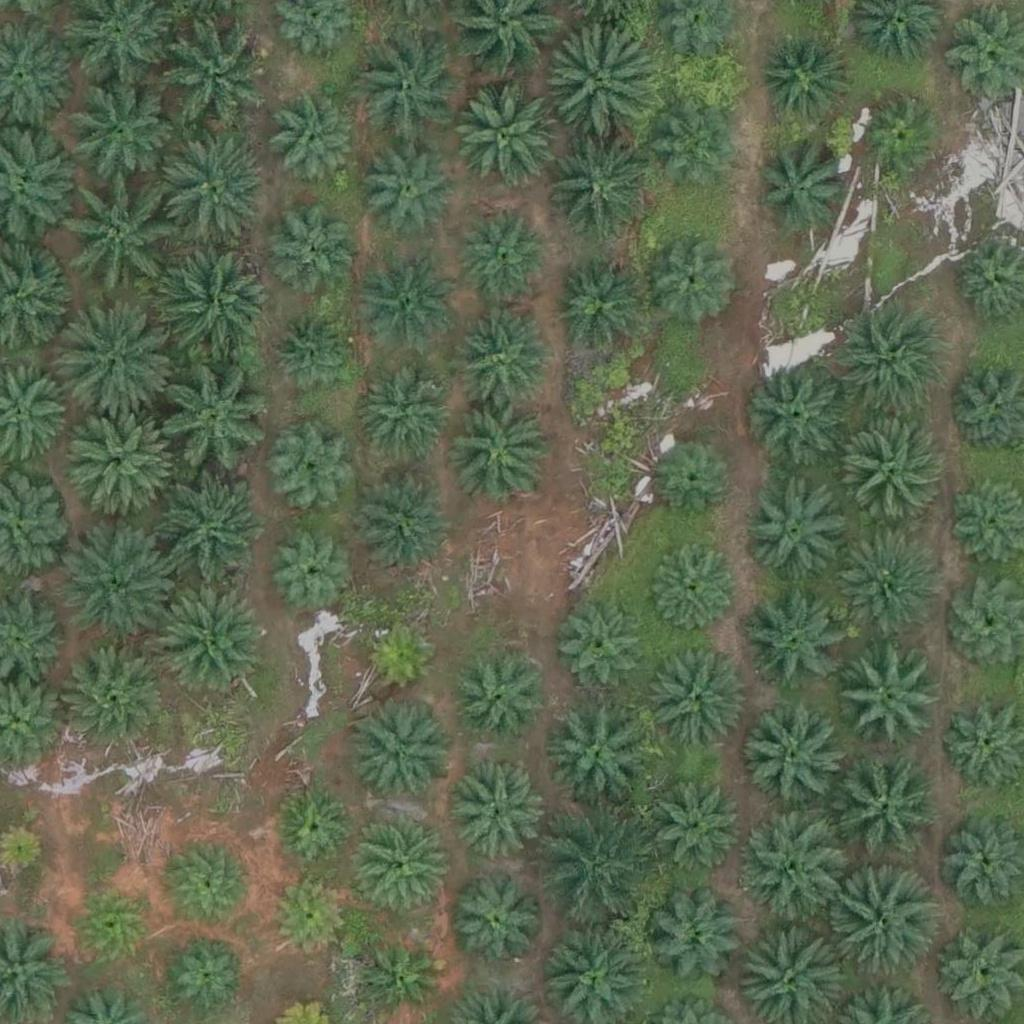Kelapa_Sawit: (63, 309, 176, 423), (736, 814, 849, 927), (539, 695, 652, 808), (540, 818, 653, 931), (161, 131, 274, 244), (157, 250, 270, 363), (150, 366, 263, 479), (829, 868, 941, 982), (149, 481, 261, 595), (153, 585, 265, 699), (55, 642, 167, 756), (458, 80, 570, 194), (829, 757, 941, 870), (831, 309, 943, 422), (544, 141, 656, 254), (63, 531, 175, 644), (63, 404, 175, 517), (70, 179, 182, 292), (548, 27, 660, 140), (348, 31, 460, 144), (159, 12, 271, 125), (61, 67, 173, 180), (840, 647, 940, 748), (747, 588, 847, 689), (646, 885, 746, 986), (453, 312, 553, 413), (449, 404, 549, 505), (450, 644, 550, 745), (450, 754, 550, 855), (443, 877, 543, 978), (354, 360, 454, 461), (355, 469, 455, 570), (348, 706, 448, 807), (347, 814, 447, 915), (754, 139, 854, 240), (837, 534, 937, 634), (841, 410, 941, 510), (749, 366, 849, 466), (739, 490, 839, 590), (740, 703, 840, 803), (650, 771, 750, 871), (649, 647, 749, 747), (361, 134, 461, 234), (356, 263, 456, 363), (648, 538, 736, 627), (358, 610, 446, 698), (166, 838, 254, 926), (166, 930, 254, 1018), (264, 870, 352, 958), (272, 781, 360, 869), (647, 241, 735, 329), (554, 601, 642, 689), (459, 208, 547, 296), (267, 526, 355, 614), (271, 418, 359, 506), (760, 40, 848, 128), (67, 880, 154, 968), (650, 436, 737, 524), (555, 264, 642, 352), (357, 930, 444, 1018), (269, 310, 356, 398), (269, 205, 356, 293), (652, 91, 739, 179), (272, 93, 359, 181), (866, 94, 941, 170)
